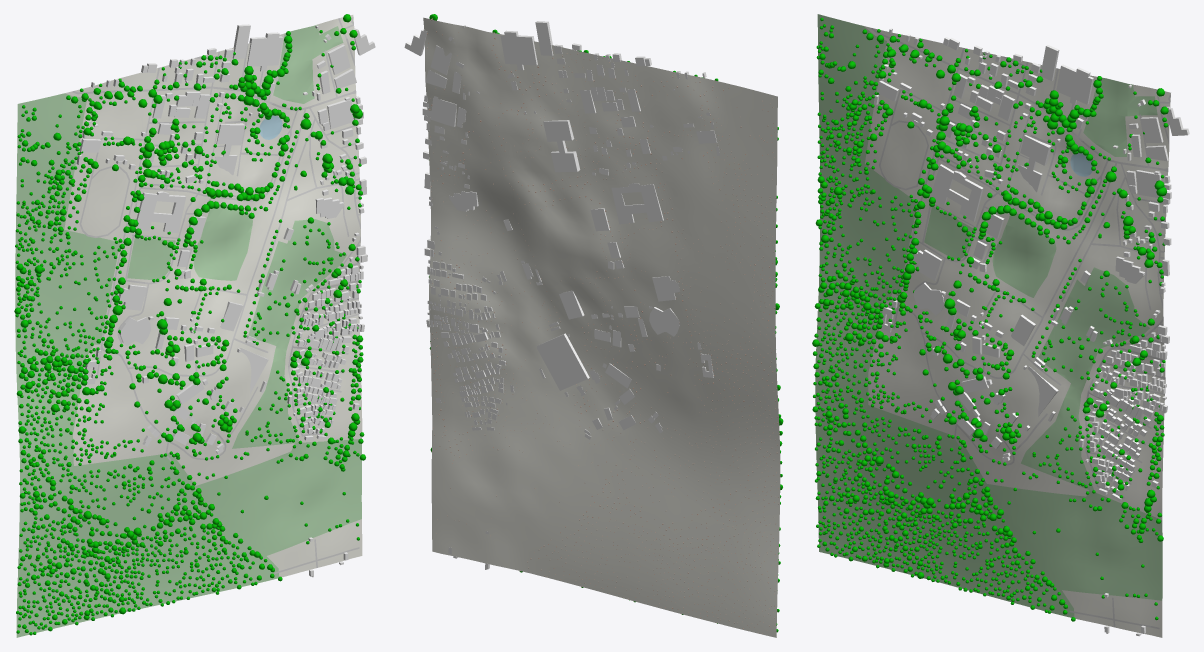
The model's file is topoexport_3D_modeling.glb.
3 renders of one model, left to right at view 1: azimuth 30°, elevation 25°; view 2: azimuth 150°, elevation 25°; view 3: azimuth 330°, elevation 25°, orthographic.
Visible parts, largest first — view 1: TPX_GreenAreas, TPX_Ground, TPX_Buildings, TPX_RoadsOutlines; view 2: TPX_Ground, TPX_Buildings; view 3: TPX_GreenAreas, TPX_Ground, TPX_Buildings, TPX_RoadsOutlines.
Boxes of the visible parts, x1,y1,x2,y2 form: TPX_GreenAreas: (15, 24, 361, 637); TPX_Ground: (64, 15, 362, 577); TPX_Buildings: (76, 24, 375, 577); TPX_RoadsOutlines: (71, 16, 360, 573); TPX_Ground: (423, 17, 780, 637); TPX_Buildings: (404, 21, 719, 569); TPX_GreenAreas: (815, 14, 1162, 617); TPX_Ground: (864, 26, 1170, 637); TPX_Buildings: (874, 28, 1189, 636); TPX_RoadsOutlines: (871, 28, 1170, 629).
Size of the model in its own units: 691 by 1017 by 70.27.
